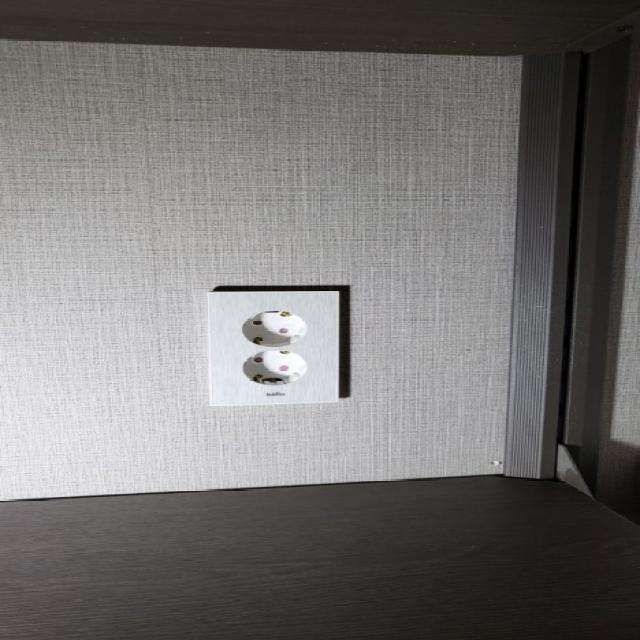typeb: (175, 276, 385, 422)
